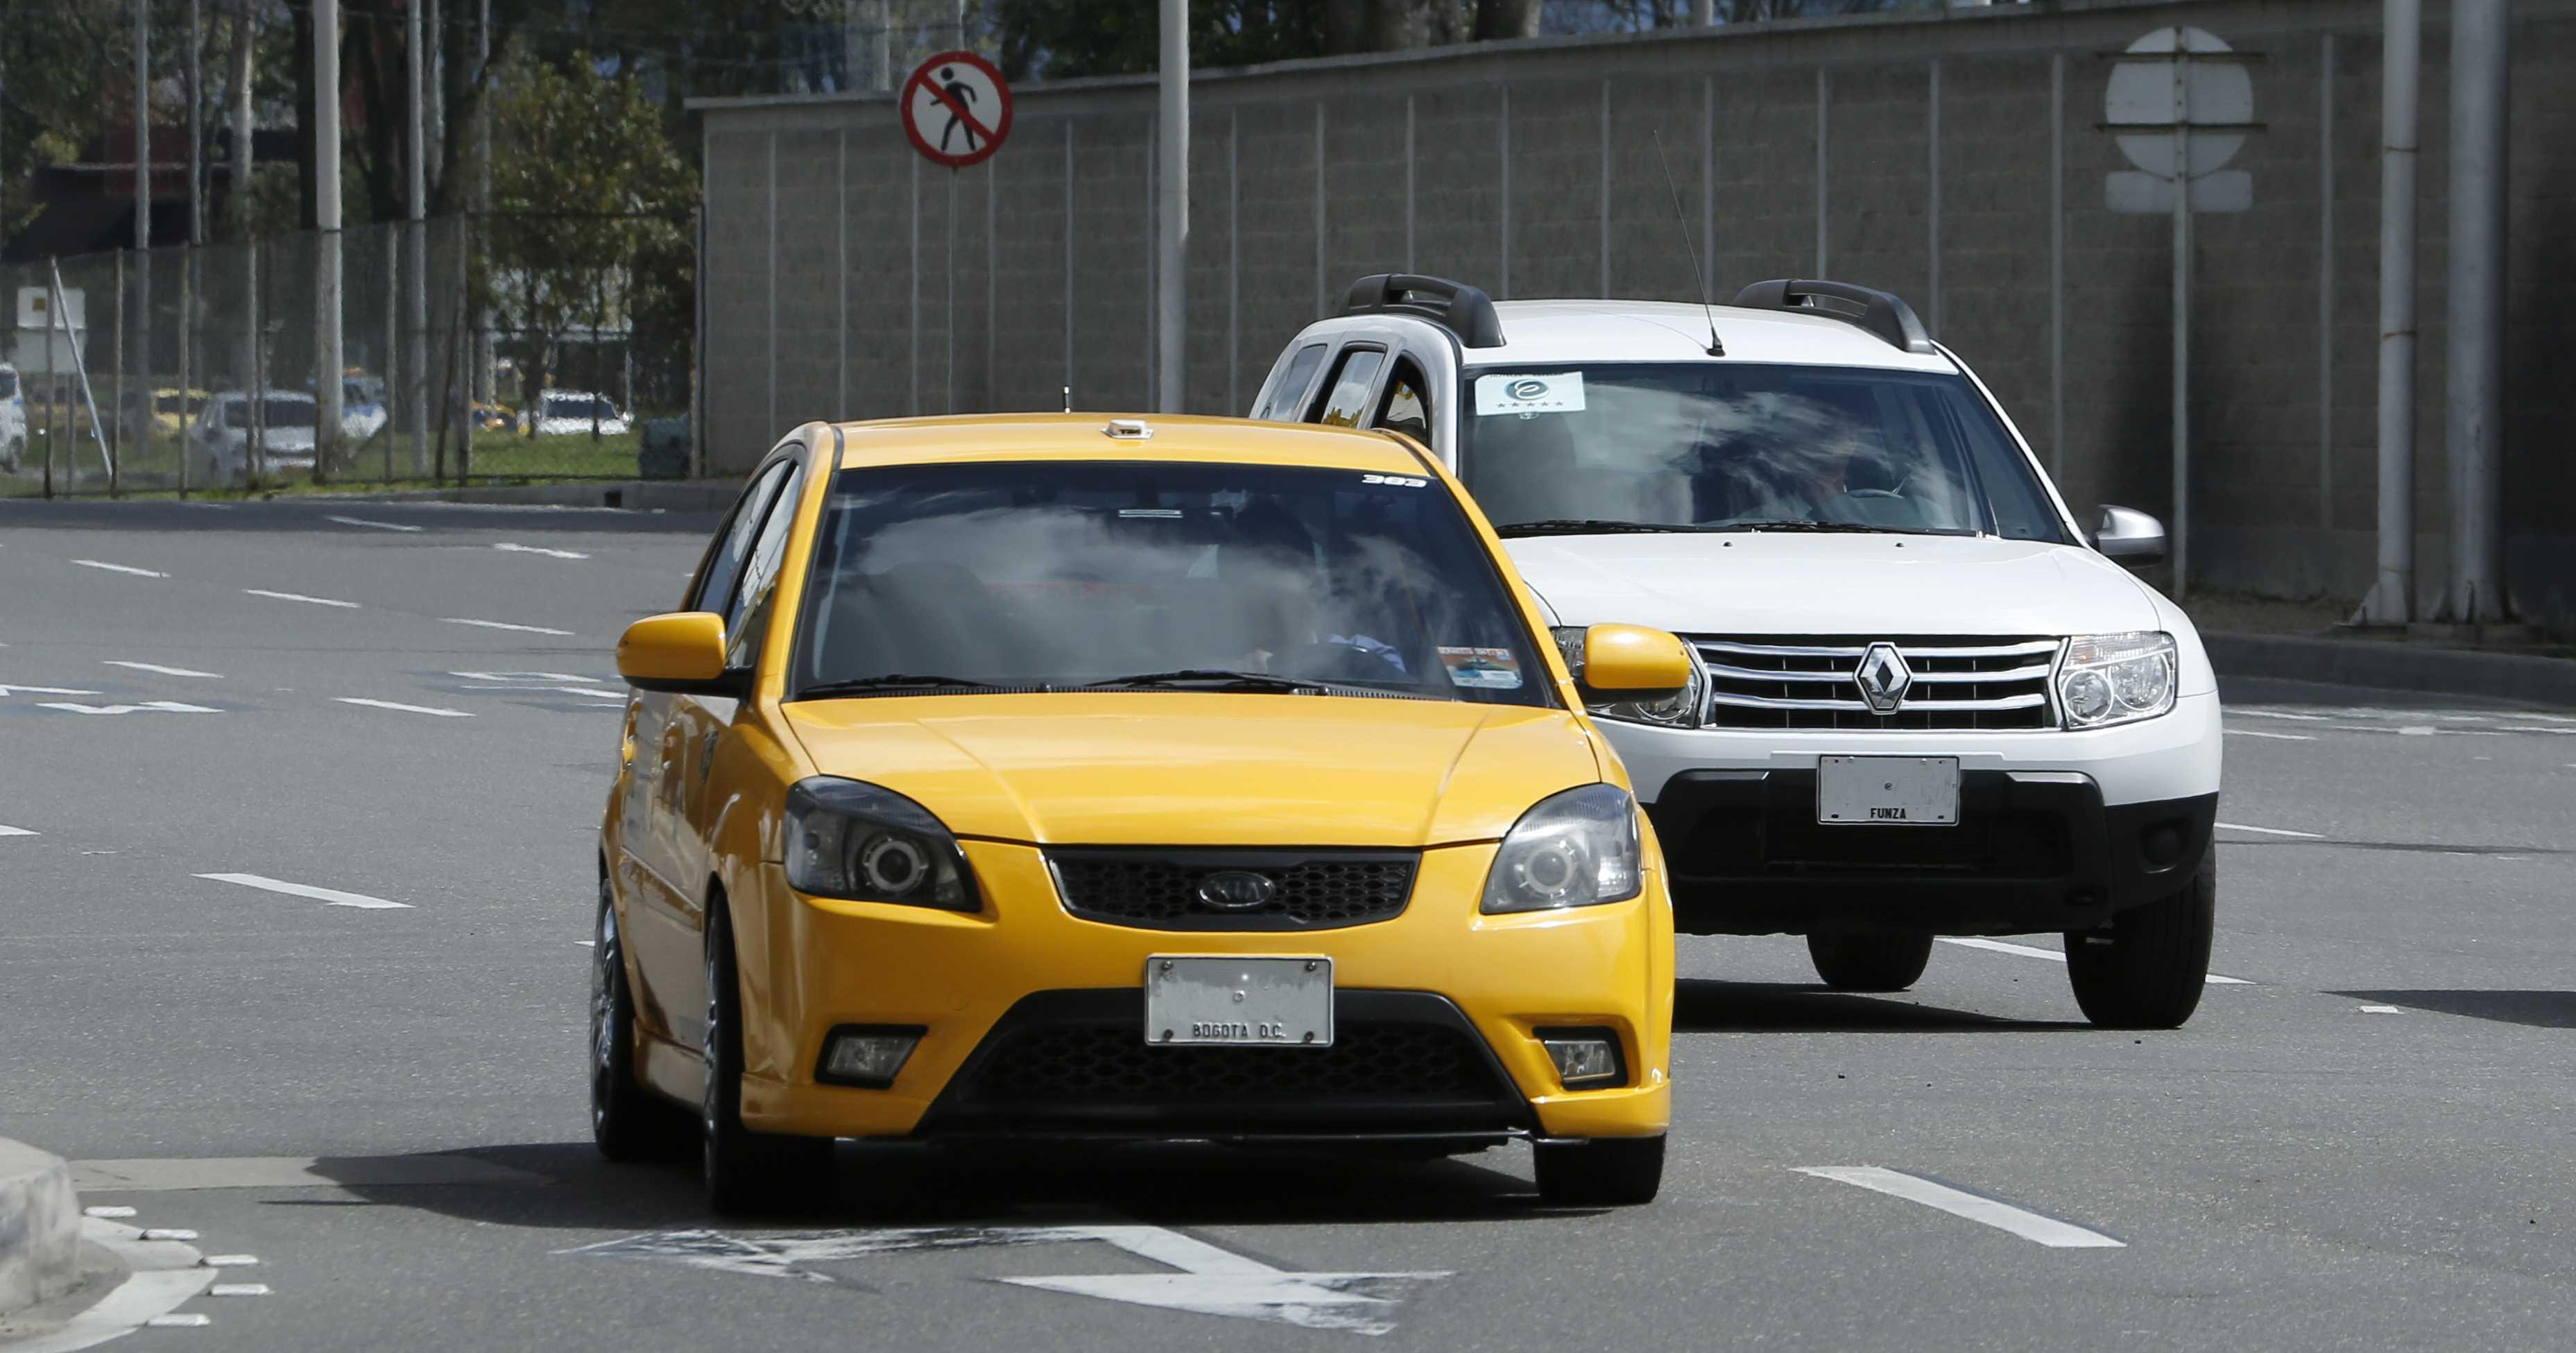taxi: (486, 361, 1625, 1213)
